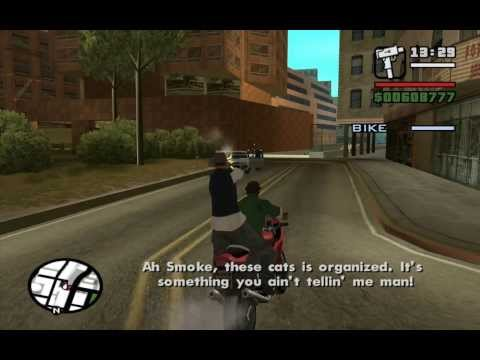bike: (207, 208, 298, 332)
car: (215, 149, 261, 177)
